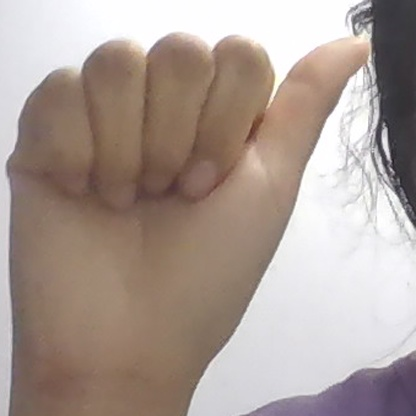A: (7, 35, 368, 366)
